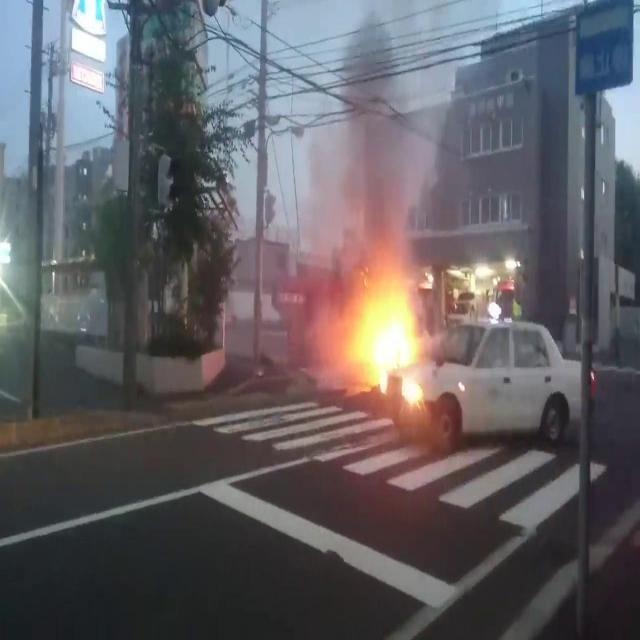Fire: (328, 255, 412, 388)
Smoke: (278, 23, 447, 222)
